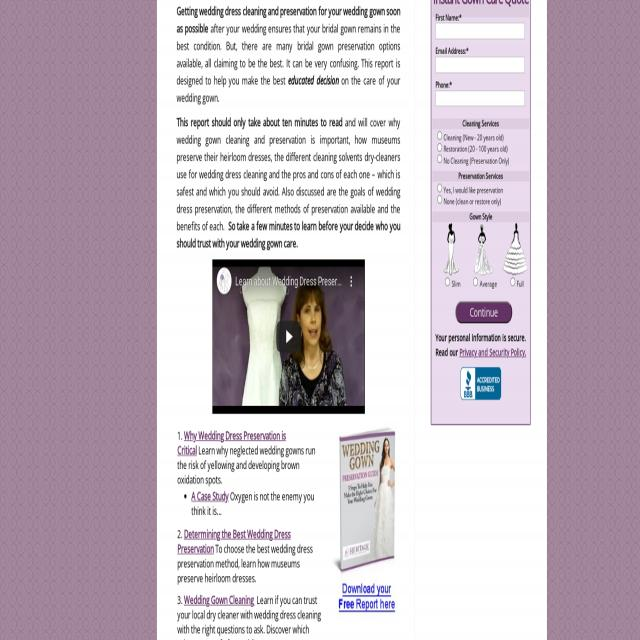button: (211, 259, 365, 415), (335, 425, 399, 573), (503, 222, 529, 276), (460, 367, 502, 400), (454, 302, 512, 323), (473, 222, 495, 276), (443, 222, 461, 276), (276, 321, 301, 353), (215, 267, 232, 296), (347, 271, 356, 293)
field: (435, 90, 525, 106), (435, 23, 525, 39), (435, 57, 525, 73), (437, 131, 443, 141), (437, 142, 443, 152), (437, 154, 443, 164), (437, 184, 443, 194), (437, 195, 443, 205), (510, 277, 516, 287), (445, 277, 451, 287), (473, 277, 479, 287)
